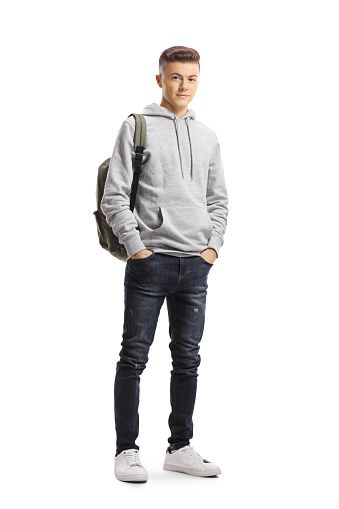person: (85, 40, 245, 491)
